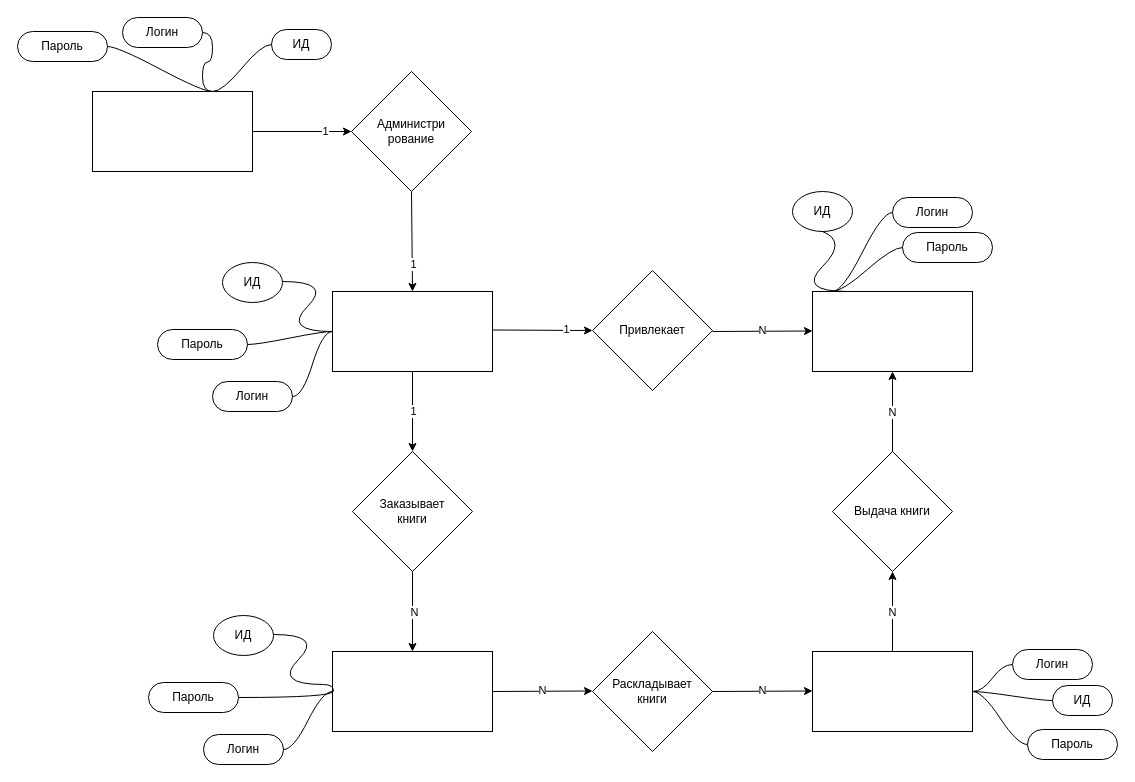
This 1135x782 diagram has some shape labels left out. The box of each missing label's shape, as (x1, y1, x2, y2) in pixels:
Администратор: (92, 90, 252, 172)
Библиотекарь: (812, 650, 972, 732)
Рекламо датель: (332, 290, 492, 372)
Сотрудник: (332, 650, 492, 732)
Читатель: (812, 290, 972, 372)
